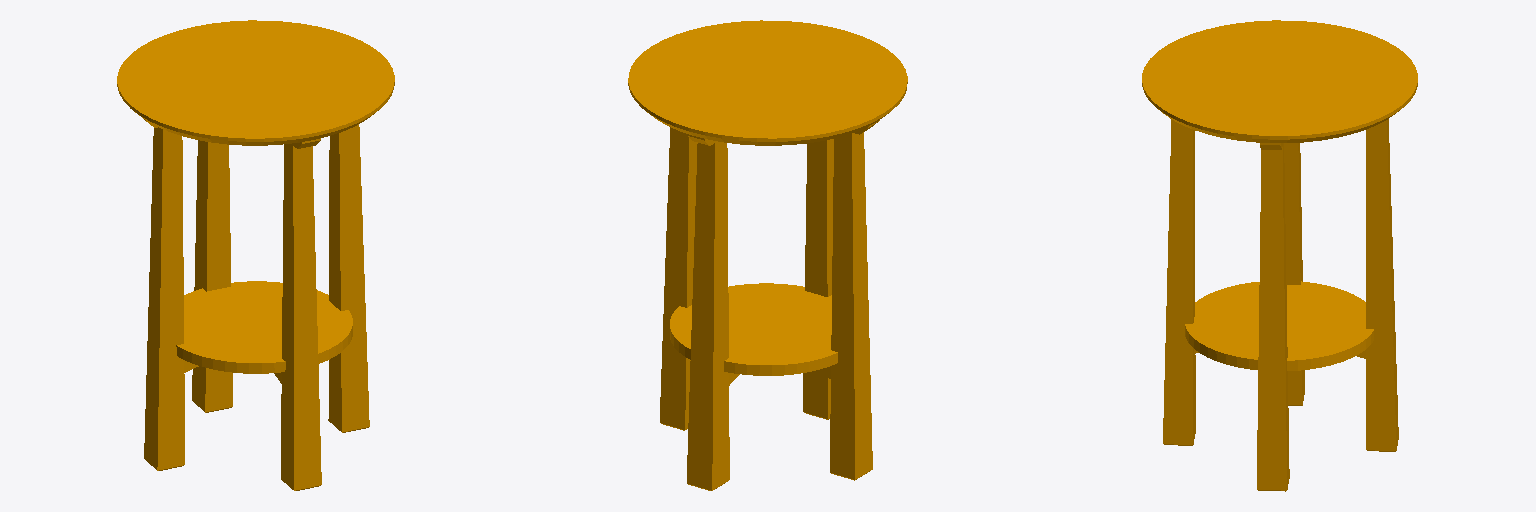
The robot description file, URDF, robot "round_table_02":
<?xml version="1.0" ?>
<robot name="round_table_02">
  <link name="baseLink">
    <contact>
      <lateral_friction value="1.0"/>
      <inertia_scaling value="3.0"/>
    </contact>
    <inertial>
      <origin rpy="0 0 0" xyz="-0.000 -0.000 -0.500"/>
       <mass value=".1"/>
       <inertia ixx="1" ixy="0.0" ixz="0.0" iyy="1" iyz="0.0" izz="1"/>
    </inertial>
    <visual>
      <origin rpy="0 0 0" xyz="0 0 0"/>
      <geometry>
        <mesh filename="visual.obj" scale="1.000 1.000 1.000"/>
      </geometry>
      <material name="texture_material">
            <texture filename="texture.png"/>
      </material>
    </visual>
    <collision>
      <origin rpy="0 0 0" xyz="0 0 0"/>
      <geometry>
        <mesh filename="visual.obj" scale="1.000 1.000 1.000"/>
      </geometry>
    </collision>
  </link>
</robot>
        

--- What the picture shows (computed from the rendered views, not written in the file) ---
3 views of the same robot in one strip: view 1: azimuth 30°, elevation 25°; view 2: azimuth 150°, elevation 25°; view 3: azimuth 270°, elevation 25° (orthographic).
Robot: round_table_02 — 1 links, 0 joints (none); root link baseLink; default pose: all joints at 0.
Visible links, largest first — view 1: baseLink; view 2: baseLink; view 3: baseLink.
Boxes of the visible links, box(x1,y1,x2,y2) form: baseLink: box(117, 20, 394, 490); baseLink: box(628, 20, 907, 490); baseLink: box(1142, 20, 1417, 491).
Bounding box of the posed robot: 0.6854 × 0.6854 × 1 m (x, y, z).
Meshes: 1 distinct files referenced, 1 mesh visuals loaded (1 OBJ).
